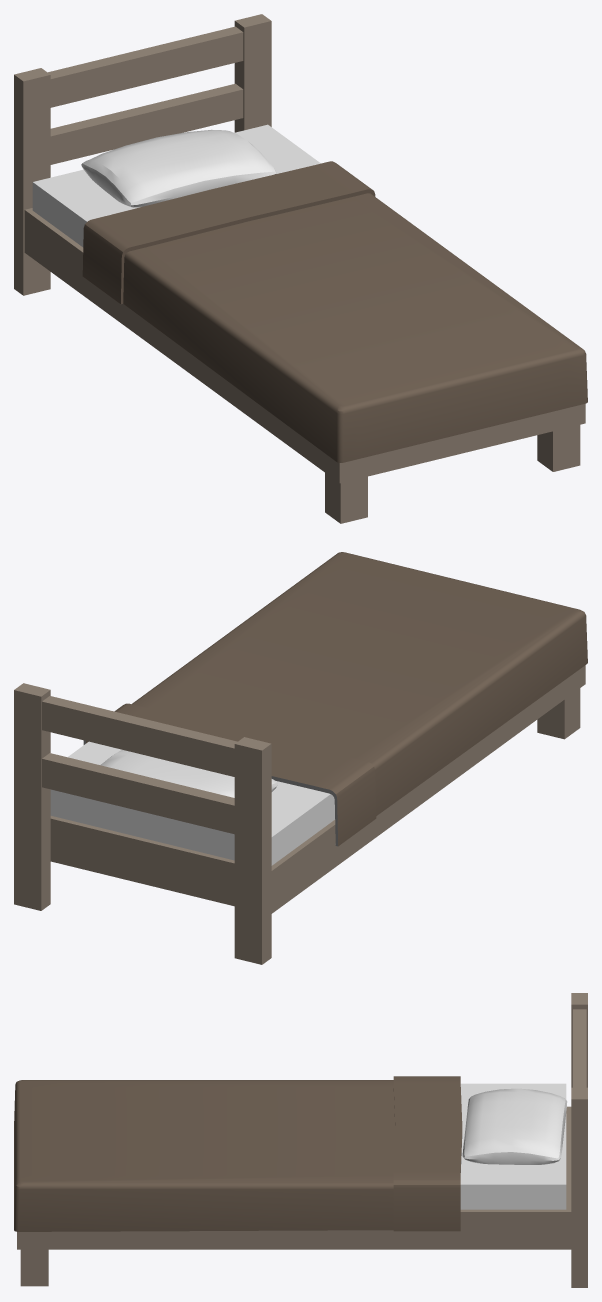
File: Bed5_C3.fbx
The picture shows the model from 3 angles, top to bottom: view 1: azimuth 30°, elevation 25°; view 2: azimuth 150°, elevation 25°; view 3: azimuth 270°, elevation 25°; orthographic projection. The views are drawn at different scales.
Parts seen in each view (by area): view 1: Bed5_C3; view 2: Bed5_C3; view 3: Bed5_C3.
Boxes of the visible parts, left/top/right/bottom form: Bed5_C3: left=14, top=14, right=587, bottom=523; Bed5_C3: left=14, top=552, right=587, bottom=964; Bed5_C3: left=14, top=993, right=587, bottom=1287.
Size of the model in its own units: 93.54 by 75 by 207.
